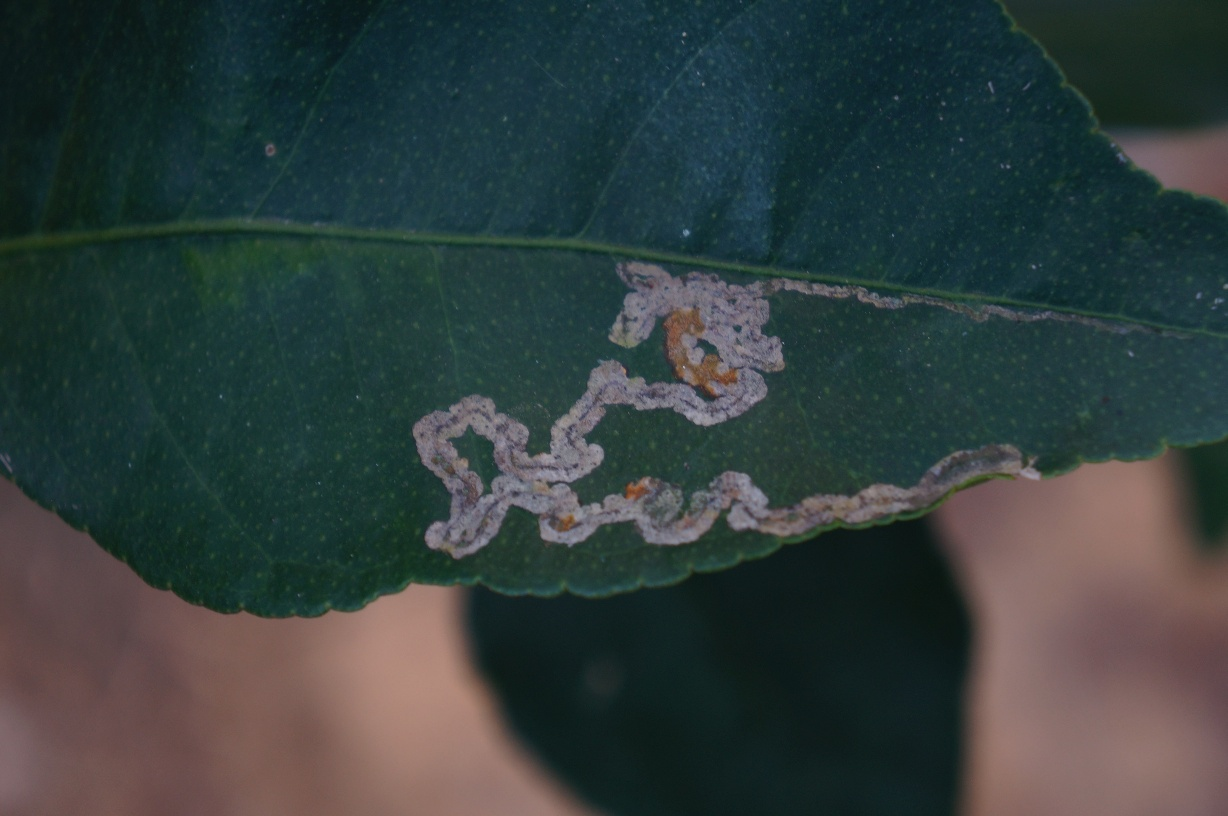damage: (385, 246, 1061, 587)
